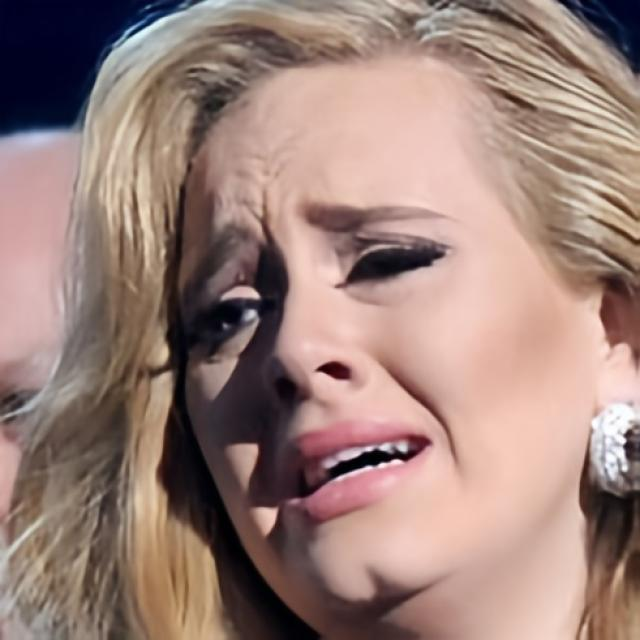sad: (182, 64, 590, 618)
